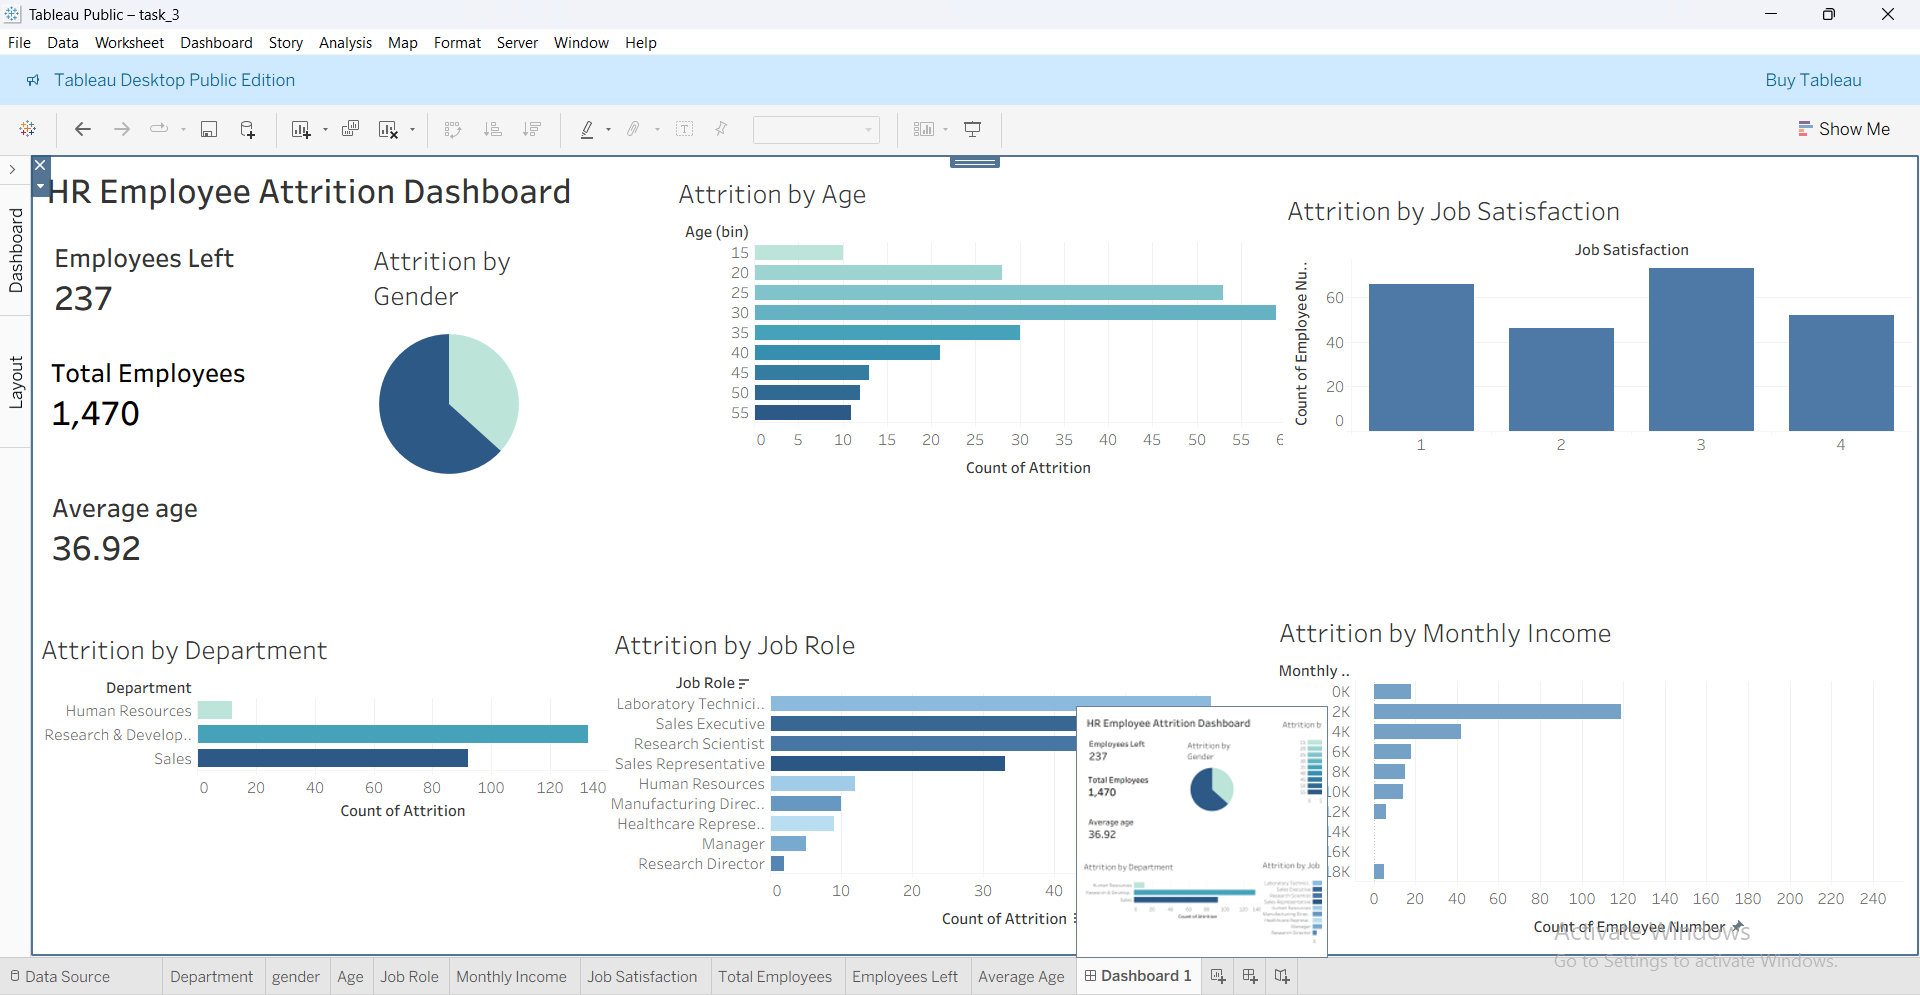

This screenshot's page, from the dashboard's own definition file:
{"tool":"tableau","page":{"name":"Dashboard 1","canvas":[1000,1000],"units":"permille","ordinal":0},"visuals":[{"type":"title","box":[4.2,10,991.5,66.2]},{"type":"worksheet","title":"Age","mark":"Automatic","rows":["Age (bin)"],"cols":["Attrition"],"box":[340.4,21.2,333.1,407]},{"type":"worksheet","title":"Job Satisfaction","mark":"Automatic","rows":["EmployeeNumber"],"cols":["JobSatisfaction"],"box":[663.2,42.5,333.1,333.3]},{"type":"worksheet","title":"gender","mark":"Pie","box":[186.4,64.9,144.1,333.3]},{"type":"worksheet","title":"Employees Left","mark":"Automatic","box":[10.1,106.1,118.1,188.5]},{"type":"worksheet","title":"Total Employees","mark":"Automatic","box":[8.5,249.7,119.2,153.6]},{"type":"worksheet","title":"Average Age","mark":"Automatic","box":[9,418.2,123.4,152.3]},{"type":"worksheet","title":"Monthly Income","mark":"Automatic","rows":["Monthly Income (bin)"],"cols":["EmployeeNumber"],"box":[659,569.3,333.1,425.7]},{"type":"worksheet","title":"Job Role","mark":"Automatic","rows":["JobRole"],"cols":["Attrition"],"box":[306.6,584.3,333.1,404.5]},{"type":"worksheet","title":"Department","mark":"Automatic","rows":["Department"],"cols":["Attrition"],"box":[3.2,590.5,303,333.3]}]}

Visuals, with their boxes on the dashboard's canvas, which has no fixed pixel size, in thousandths of its width and height (x1, y1, x2, y2). These are canvas units, not pixel positions in the 1920x995 screenshot, which may show the page scaled, cropped or inside an application window:
title: 4/10/996/76
"Age" worksheet: 340/21/674/428
"Job Satisfaction" worksheet: 663/42/996/376
"gender" worksheet (Pie marks): 186/65/330/398
"Employees Left" worksheet: 10/106/128/295
"Total Employees" worksheet: 8/250/128/403
"Average Age" worksheet: 9/418/132/570
"Monthly Income" worksheet: 659/569/992/995
"Job Role" worksheet: 307/584/640/989
"Department" worksheet: 3/590/306/924
